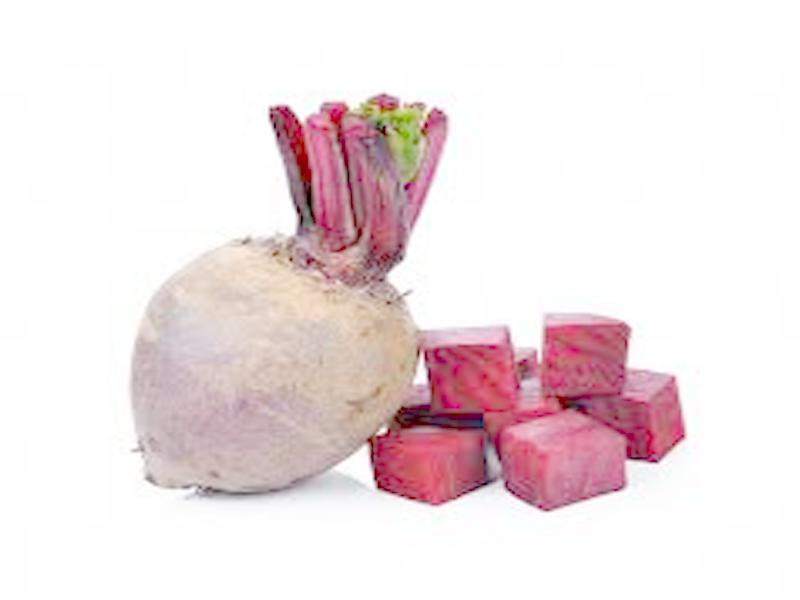Beet: (131, 97, 447, 495)
